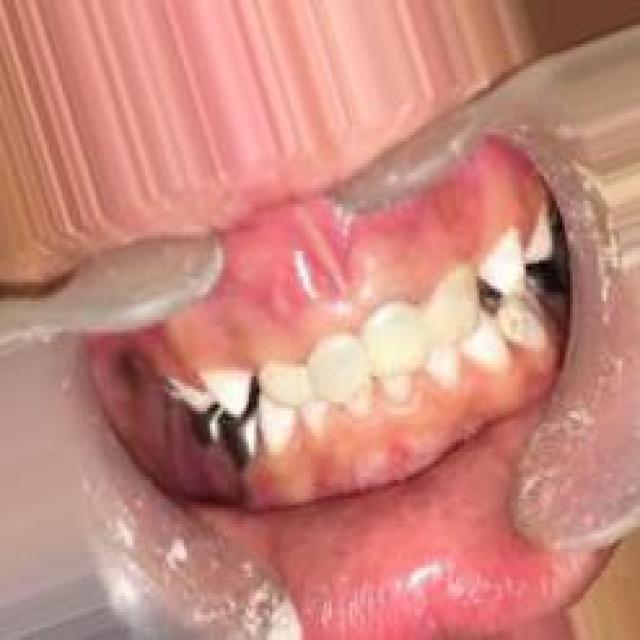caries: (184, 406, 268, 488), (496, 292, 553, 354)
